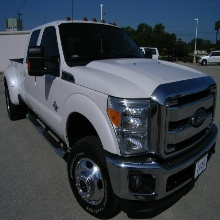no damage: (3, 20, 217, 217)
